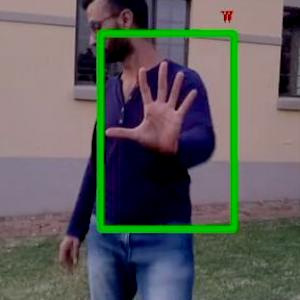follow_hand: (104, 55, 205, 156)
